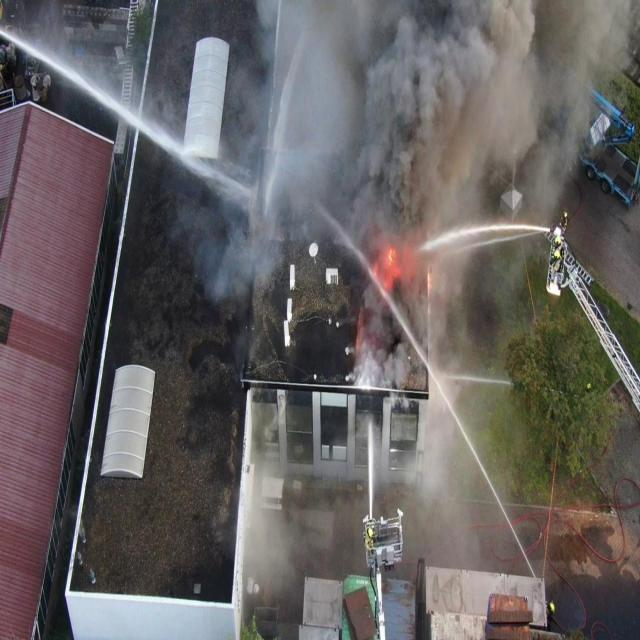Fire: (388, 248, 396, 266), (428, 272, 430, 296)
Smoke: (176, 0, 640, 600)
